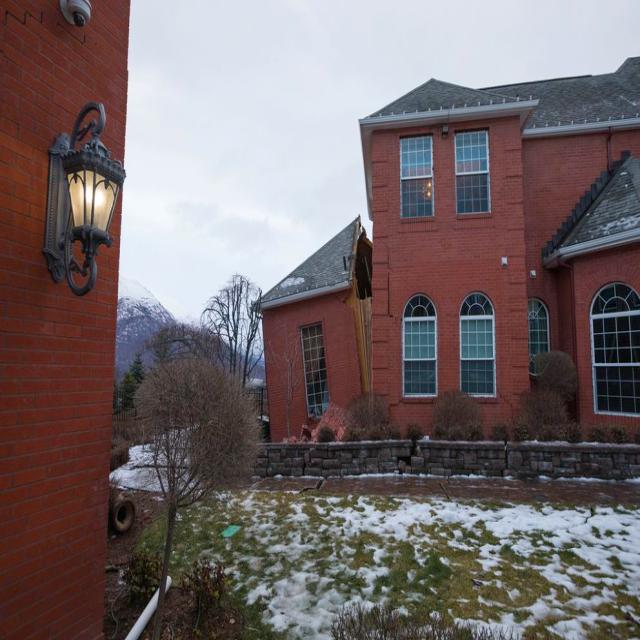Severely_Damaged: (292, 180, 396, 475)
